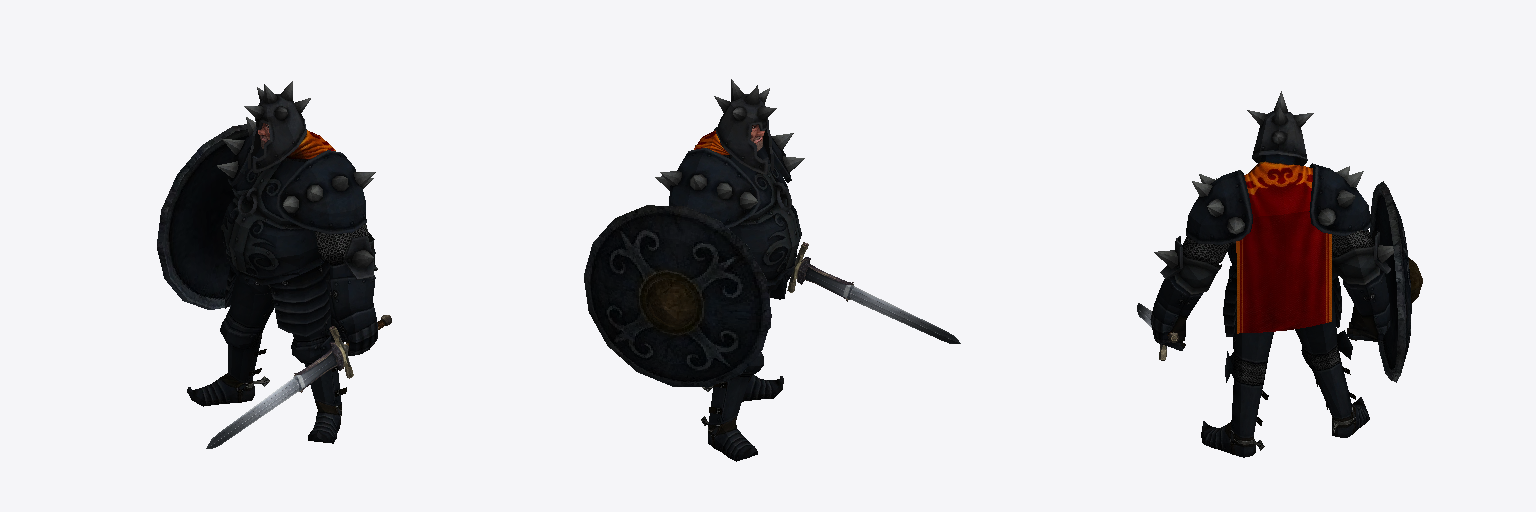
The picture shows the model from 3 angles: view 1: azimuth 30°, elevation 25°; view 2: azimuth 150°, elevation 25°; view 3: azimuth 270°, elevation 25°; orthographic projection.
Visible parts, largest first — view 1: Object_5049cba8.jpg, Object_[number redacted]c.jpg, Object_02fade37.jpg; view 2: Object_[number redacted]c.jpg, Object_5049cba8.jpg, Object_02fade37.jpg; view 3: Object_5049cba8.jpg, Object_[number redacted]c.jpg.
Part boxes in pixels (bbox=[...]): Object_5049cba8.jpg: bbox=[187, 81, 377, 443]; Object_[number redacted]c.jpg: bbox=[157, 124, 248, 309]; Object_02fade37.jpg: bbox=[206, 315, 391, 448]; Object_[number redacted]c.jpg: bbox=[584, 205, 771, 387]; Object_5049cba8.jpg: bbox=[655, 79, 804, 461]; Object_02fade37.jpg: bbox=[787, 242, 960, 343]; Object_5049cba8.jpg: bbox=[1150, 91, 1393, 457]; Object_[number redacted]c.jpg: bbox=[1370, 181, 1422, 382].
Bounding box in the file's own units: 1.89 × 2.5 × 1.92.
Materials: 4 (3 with a texture image).